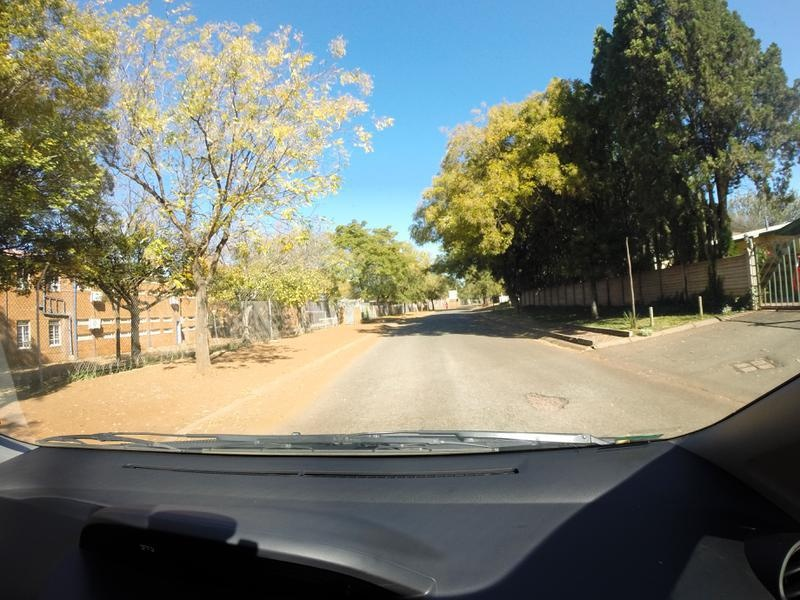pothole: (522, 388, 574, 418)
